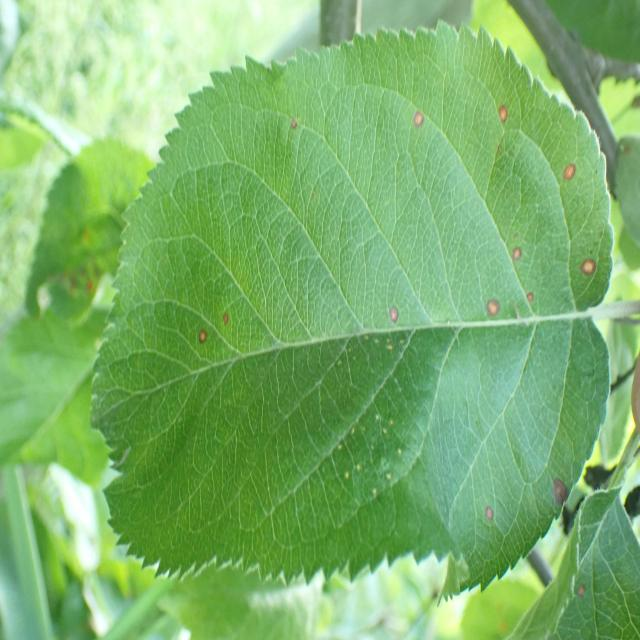frog-eye-leaf-spot: (87, 20, 615, 601), (504, 485, 640, 640)
